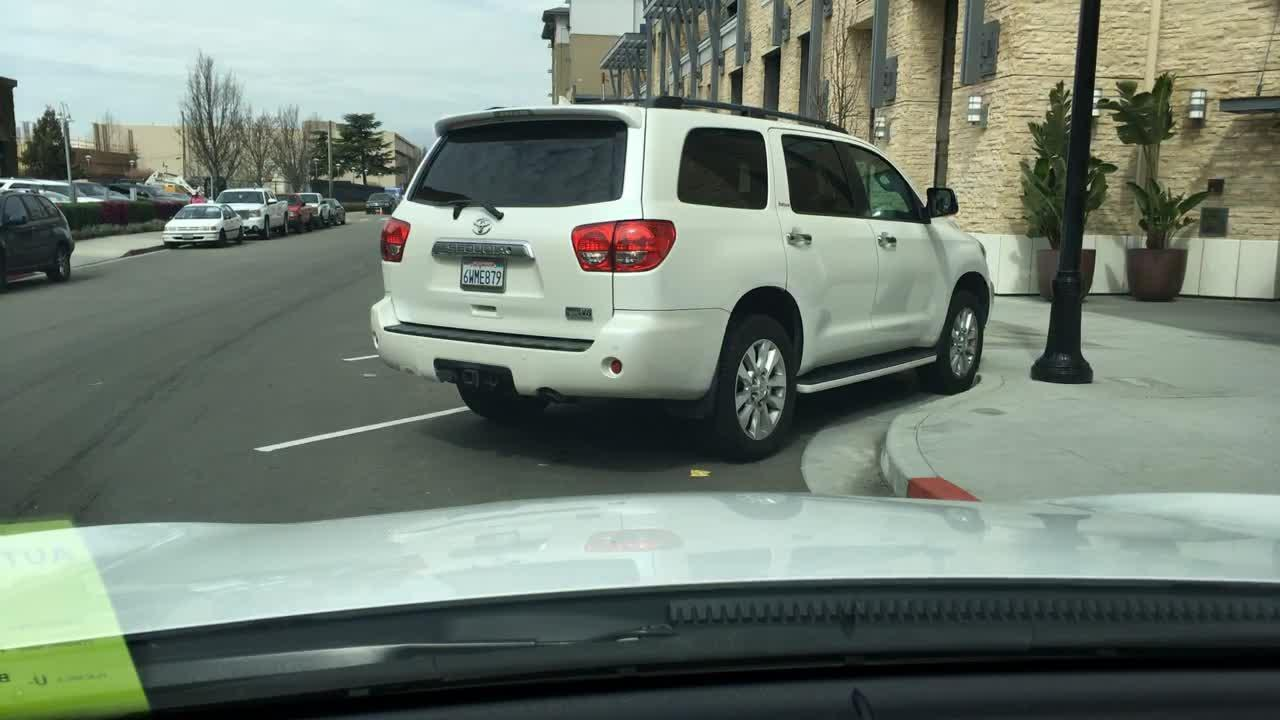Toyota: (467, 215, 498, 238)
